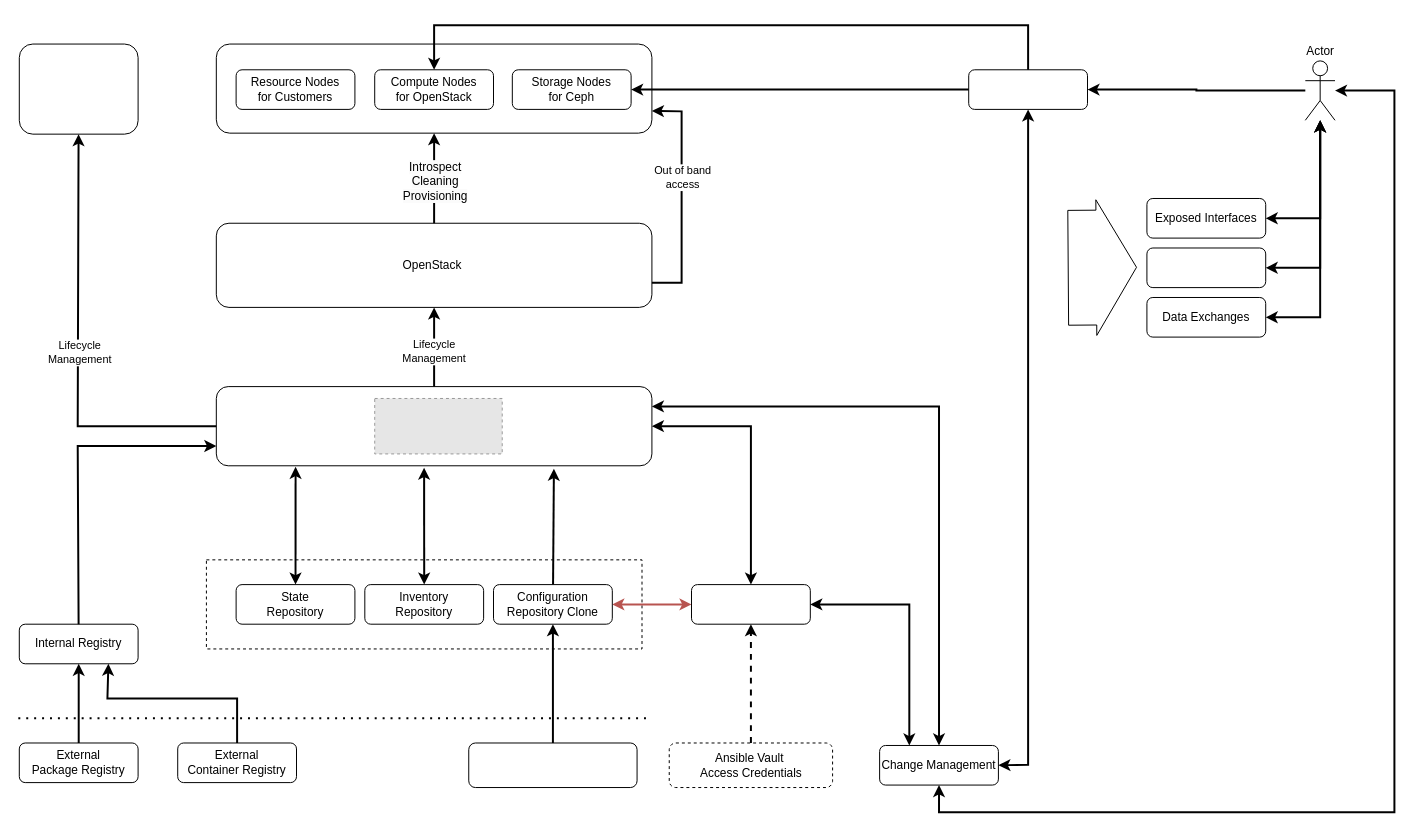
The diagram is 1421 pixels wide and 839 high, and some of its shapes have lost their labels. Grey dashed boxes stand in for pictures. The box of each missing label's shape, as (x1, y1, x2, y2) in pixels:
Bare-Metal Nodes: (215, 43, 652, 133)
Boundary / Teleport: (968, 69, 1088, 109)
Exposed APIs: (1146, 247, 1266, 288)
Git Service Configuration Repository: (468, 742, 637, 788)
Network Devices and Resources: (18, 43, 138, 134)
Secret Management: (691, 584, 810, 624)
System State: (205, 559, 642, 649)
